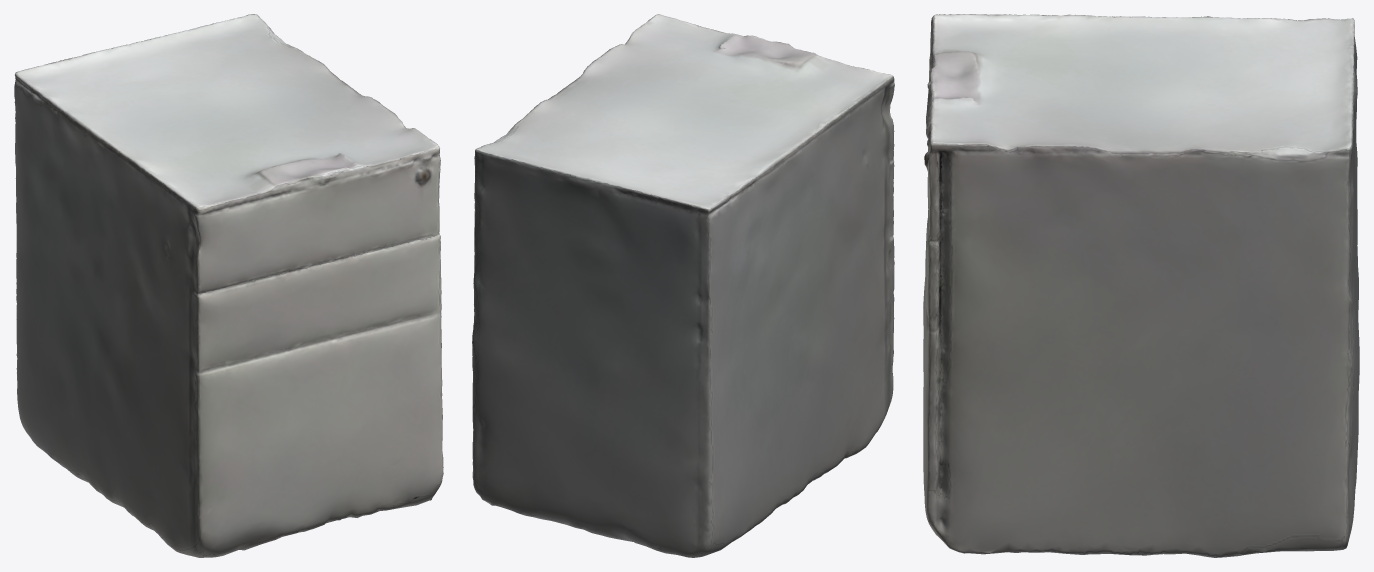
Rendered from source.glb.
3 renders of one model, left to right at view 1: azimuth 30°, elevation 25°; view 2: azimuth 150°, elevation 25°; view 3: azimuth 270°, elevation 25°, orthographic. The views are drawn at different scales.
Bounding box in the file's own units: 0.4014 × 0.578 × 0.5339.
1 material, 1 textured.
